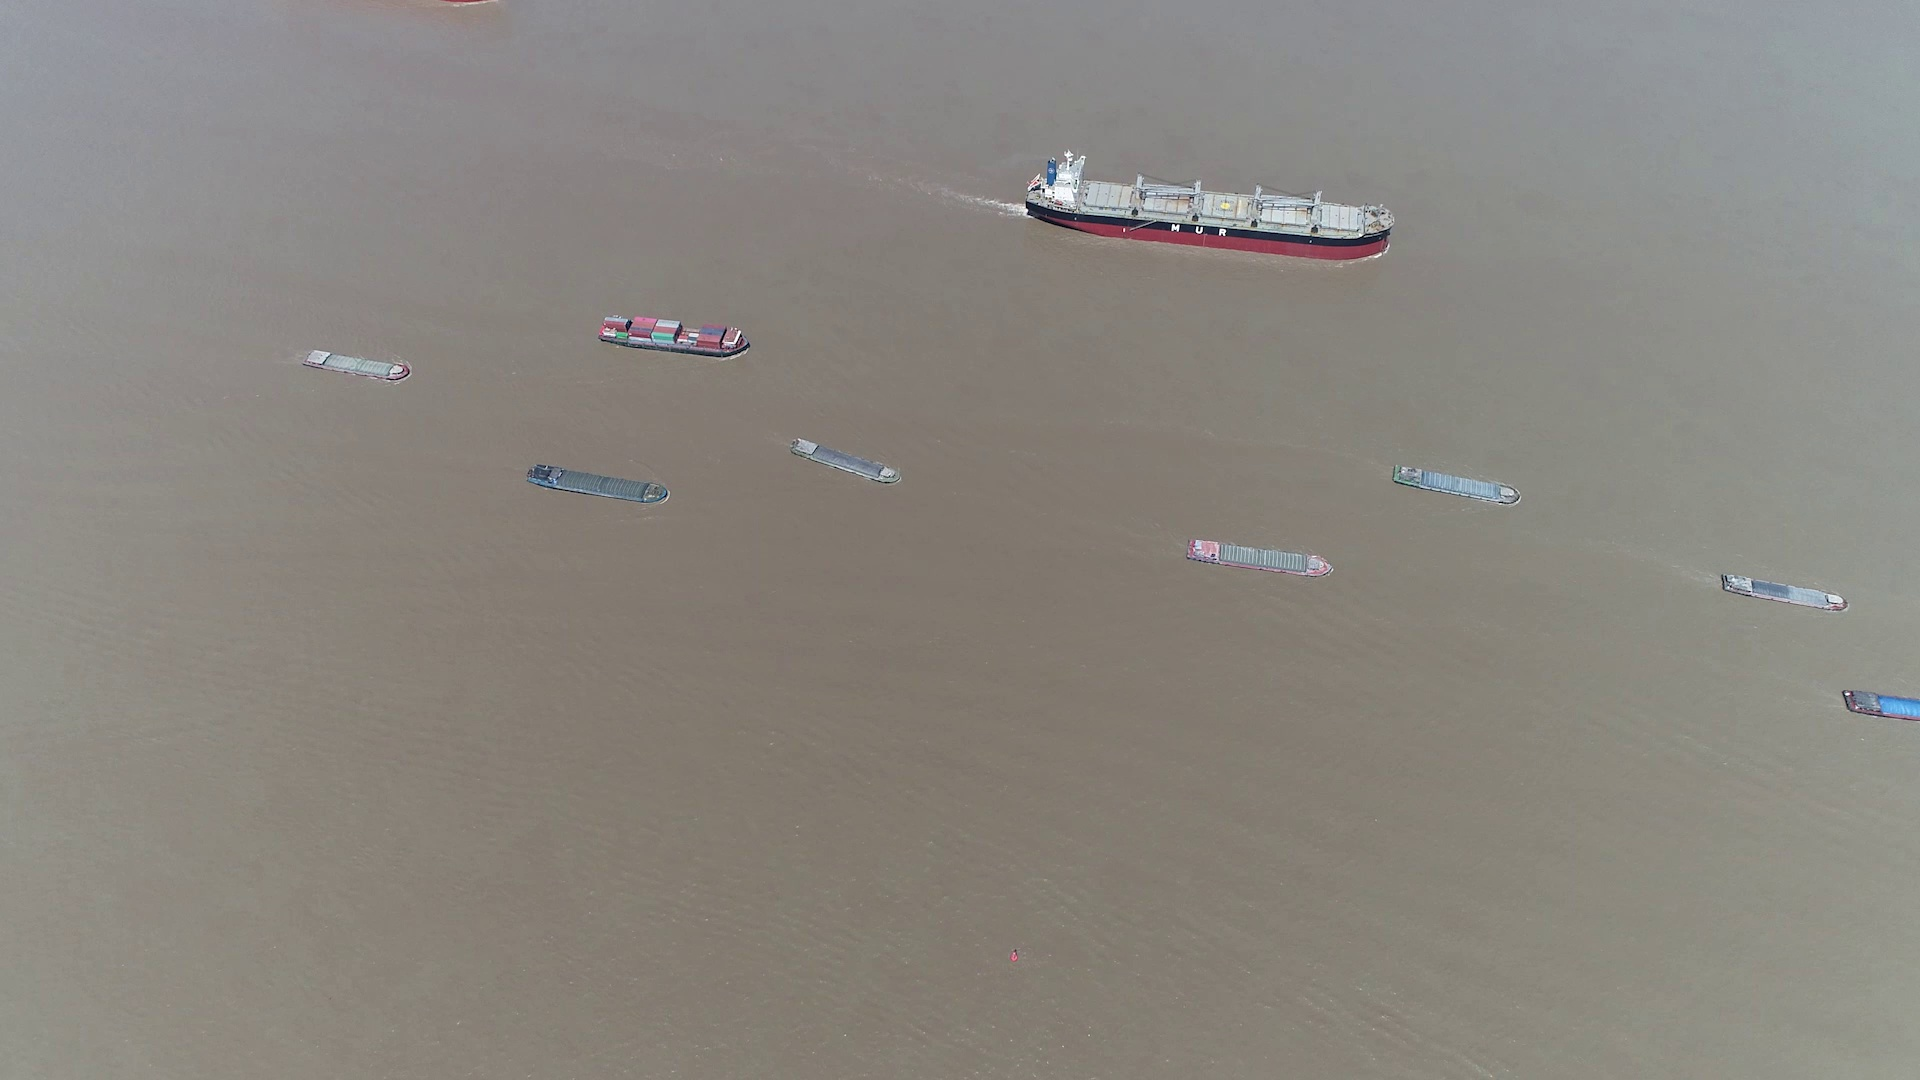ship: (1027, 157, 1393, 257), (601, 313, 752, 357), (527, 464, 669, 505), (1187, 538, 1329, 578), (1391, 465, 1522, 508), (790, 438, 901, 487), (1720, 572, 1846, 611), (301, 349, 410, 382), (1842, 687, 1920, 724)
